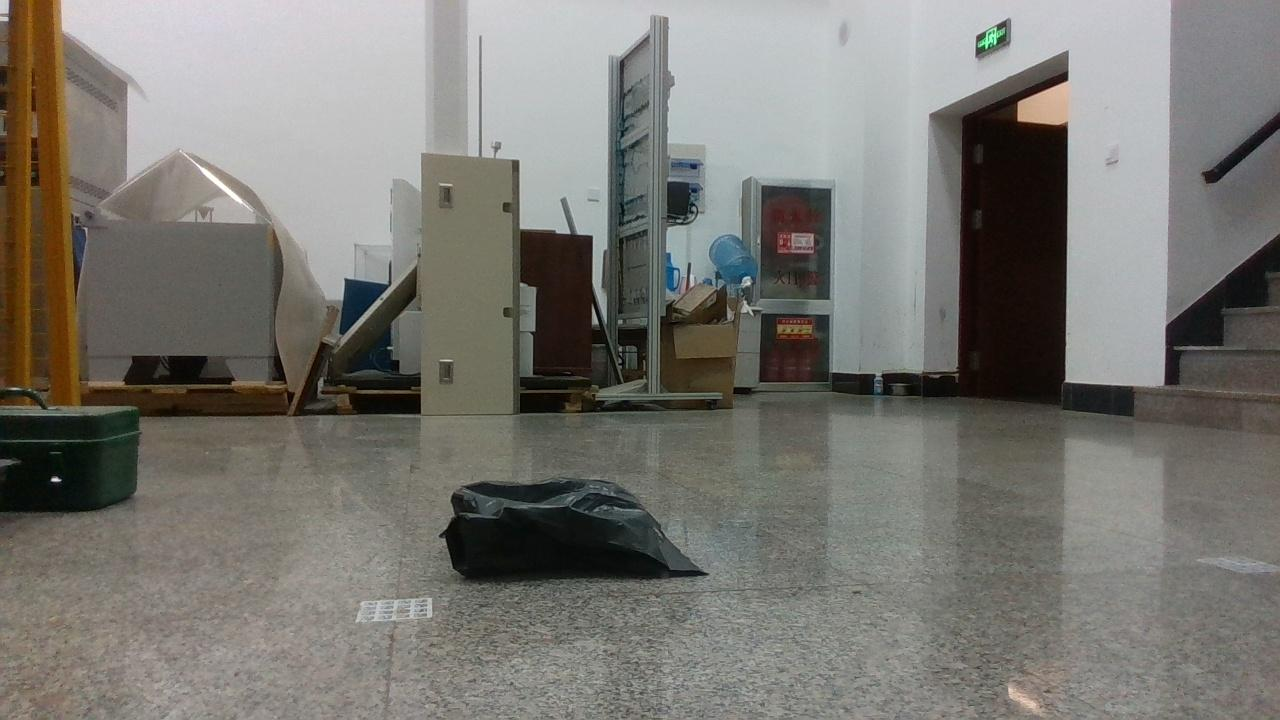package: (438, 478, 710, 578)
